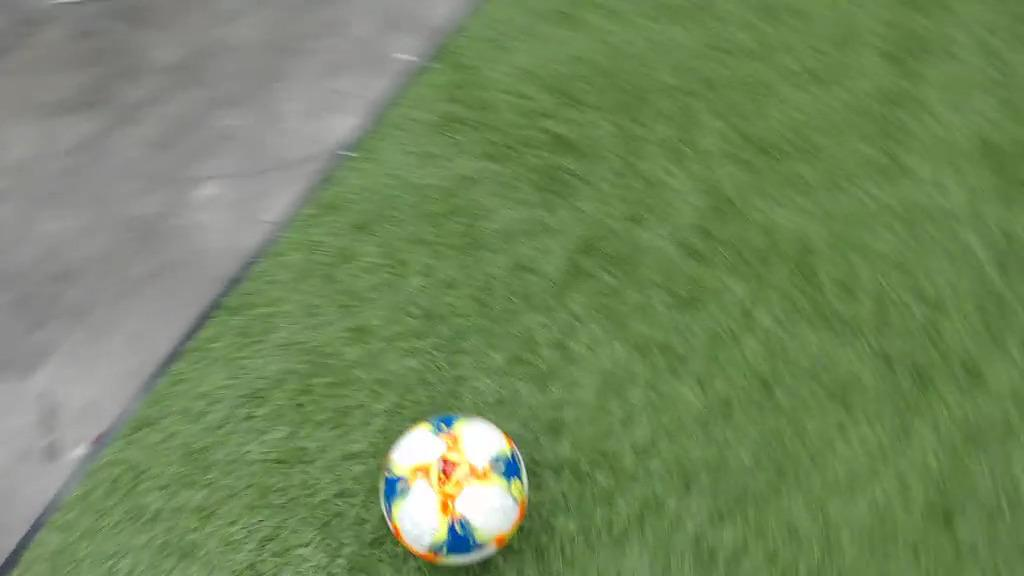ball: (380, 413, 525, 568)
